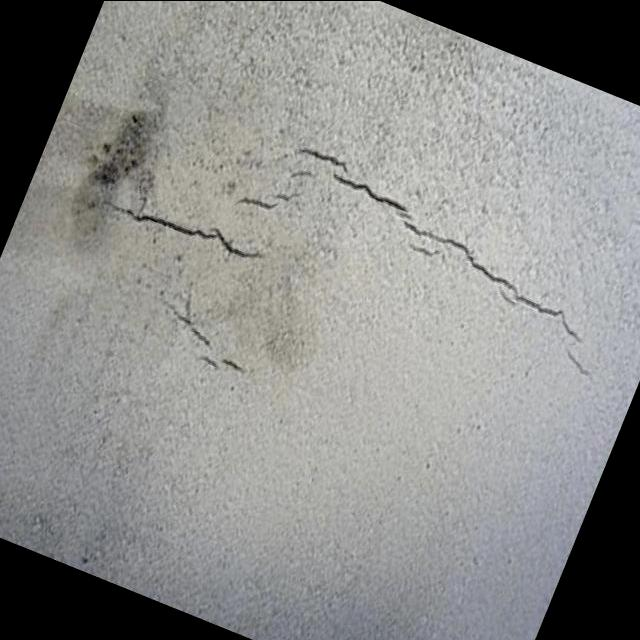defect: (235, 142, 594, 380), (100, 196, 265, 261), (171, 305, 250, 379)
